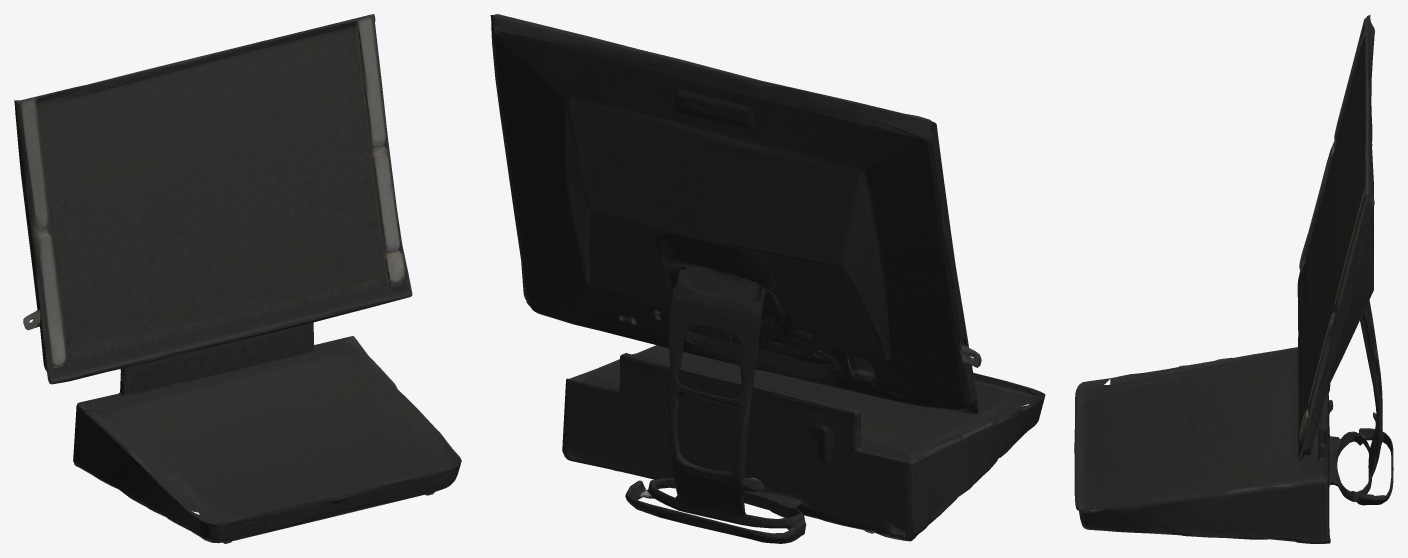
File: shop-register.glb
3 views of the same model, side by side, from view 1: azimuth 30°, elevation 25°; view 2: azimuth 150°, elevation 25°; view 3: azimuth 270°, elevation 25° (orthographic). The views are drawn at different scales.
Visible parts, largest first — view 1: Mesh_0; view 2: Mesh_0; view 3: Mesh_0.
Boxes of the visible parts, x1=… form: Mesh_0: x1=14, y1=14, x2=461, y2=543; Mesh_0: x1=490, y1=14, x2=1045, y2=543; Mesh_0: x1=1074, y1=15, x2=1393, y2=543.
Size of the model in its own units: 0.42 by 0.39 by 0.3.
Materials: 1 (1 with a texture image).
